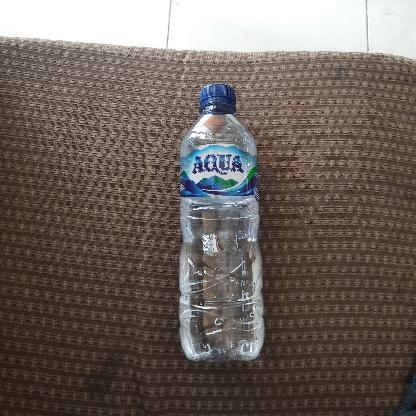Plastic Bottle: (176, 80, 268, 366)
